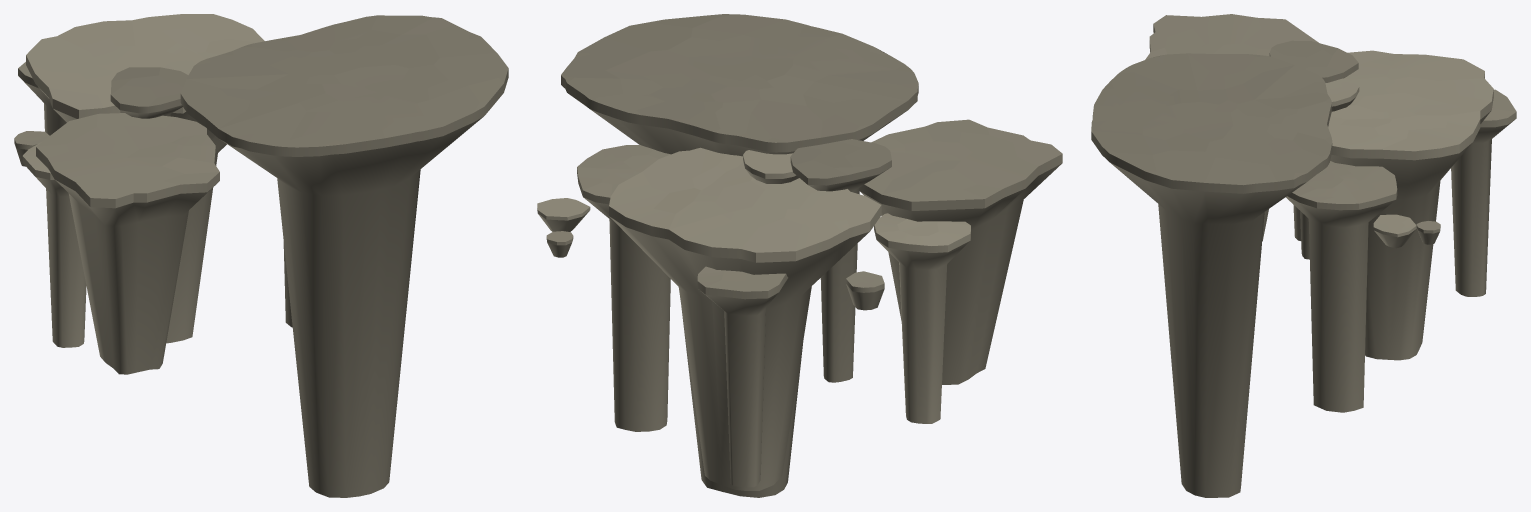
File: coral_tables_C_light.fbx
The picture shows the model from 3 angles, left to right: view 1: azimuth 30°, elevation 25°; view 2: azimuth 150°, elevation 25°; view 3: azimuth 270°, elevation 25°; orthographic projection. The views are drawn at different scales.
Parts seen in each view (by area): view 1: coral_tables_C_big_A, coral_tables_C_big_C, coral_tables_C_big_B, coral_tables_C_F, coral_tables_C_E, coral_tables_C_G, coral_tables_C_small_B; view 2: coral_tables_C_big_A, coral_tables_C_big_B, coral_tables_C_big_C, coral_tables_C_D, coral_tables_C_F, coral_tables_C_G, coral_tables_C_E, coral_tables_C_small_A, coral_tables_C_small_D, coral_tables_C_small_B, coral_tables_C_small_E; view 3: coral_tables_C_big_A, coral_tables_C_big_B, coral_tables_C_D, coral_tables_C_G, coral_tables_C_big_C, coral_tables_C_E, coral_tables_C_small_D, coral_tables_C_small_A.
Part boxes in pixels (<box>): coral_tables_C_big_A: <box>180,15,508,497</box>; coral_tables_C_big_C: <box>36,113,219,374</box>; coral_tables_C_big_B: <box>26,14,264,343</box>; coral_tables_C_F: <box>22,142,86,347</box>; coral_tables_C_E: <box>110,67,188,118</box>; coral_tables_C_G: <box>18,62,66,135</box>; coral_tables_C_small_B: <box>14,131,49,166</box>; coral_tables_C_big_A: <box>561,14,918,497</box>; coral_tables_C_big_B: <box>609,147,881,490</box>; coral_tables_C_big_C: <box>859,119,1062,384</box>; coral_tables_C_D: <box>577,144,670,431</box>; coral_tables_C_F: <box>874,213,970,423</box>; coral_tables_C_G: <box>697,266,788,487</box>; coral_tables_C_E: <box>790,139,891,382</box>; coral_tables_C_small_A: <box>743,150,798,183</box>; coral_tables_C_small_D: <box>537,198,590,231</box>; coral_tables_C_small_B: <box>846,271,884,310</box>; coral_tables_C_small_E: <box>546,231,573,257</box>; coral_tables_C_big_A: <box>1091,53,1332,497</box>; coral_tables_C_big_B: <box>1328,50,1493,360</box>; coral_tables_C_D: <box>1285,161,1397,412</box>; coral_tables_C_G: <box>1451,89,1516,296</box>; coral_tables_C_big_C: <box>1145,14,1318,240</box>; coral_tables_C_E: <box>1269,40,1358,259</box>; coral_tables_C_small_D: <box>1373,214,1416,248</box>; coral_tables_C_small_A: <box>1325,78,1359,111</box>.
Bounding box in the file's own units: 257 × 228 × 240.
